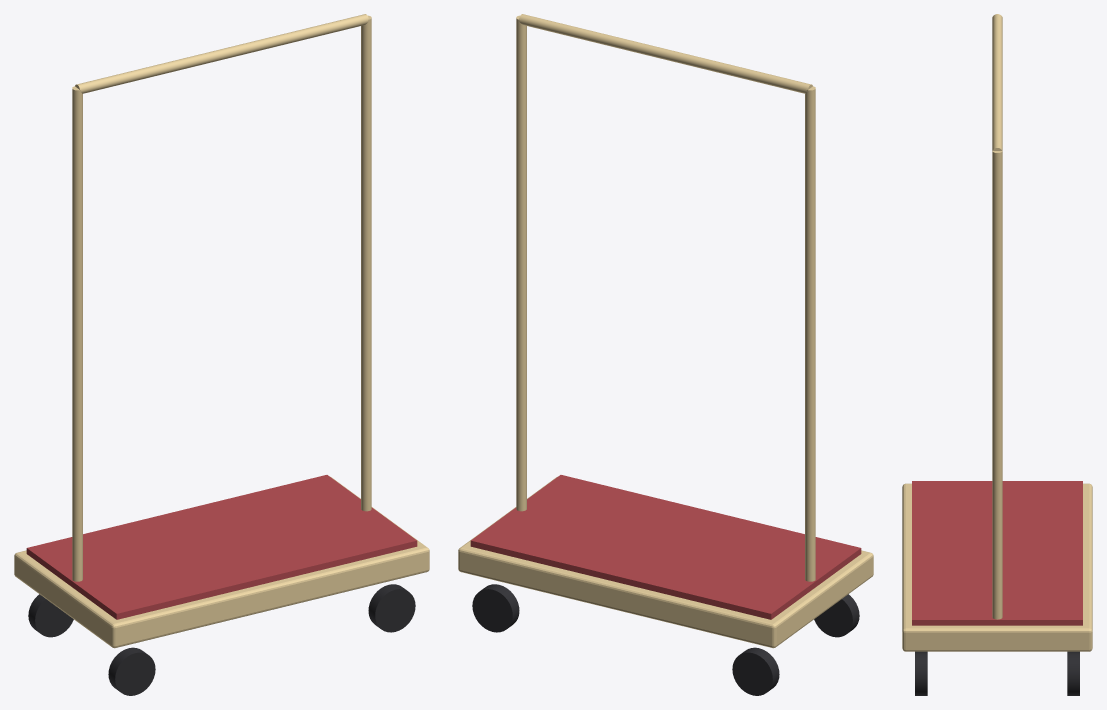
The model's file is hotel-luggage-cart.glb.
3 views of the same model, side by side, from view 1: azimuth 30°, elevation 25°; view 2: azimuth 150°, elevation 25°; view 3: azimuth 270°, elevation 25° (orthographic). The views are drawn at different scales.
Visible parts, largest first — view 1: carpet, deck, post, post.001, top_rail, caster.001, caster.003, caster.002; view 2: carpet, deck, post, post.001, top_rail, caster.002, caster, caster.001; view 3: carpet, deck, post.001, top_rail, caster, caster.003.
Part boxes in pixels (box(x1,y1,x2,y2)): carpet: box(26, 475, 417, 619); deck: box(14, 476, 429, 648); post: box(72, 86, 82, 581); post.001: box(361, 15, 371, 511); top_rail: box(75, 14, 368, 93); caster.001: box(108, 647, 155, 695); caster.003: box(368, 584, 415, 632); caster.002: box(28, 594, 73, 637); carpet: box(470, 475, 861, 619); deck: box(458, 476, 873, 648); post: box(805, 86, 815, 581); post.001: box(516, 15, 526, 511); top_rail: box(519, 14, 812, 93); caster.002: box(732, 647, 779, 695); caster: box(472, 584, 519, 632); caster.001: box(814, 594, 859, 637); carpet: box(912, 481, 1082, 625); deck: box(902, 483, 1092, 651); post.001: box(992, 151, 1002, 619); top_rail: box(992, 14, 1002, 150); caster: box(1067, 651, 1079, 695); caster.003: box(915, 651, 927, 695).
Bounding box in the file's own units: 1.1 × 1.93 × 0.6.
